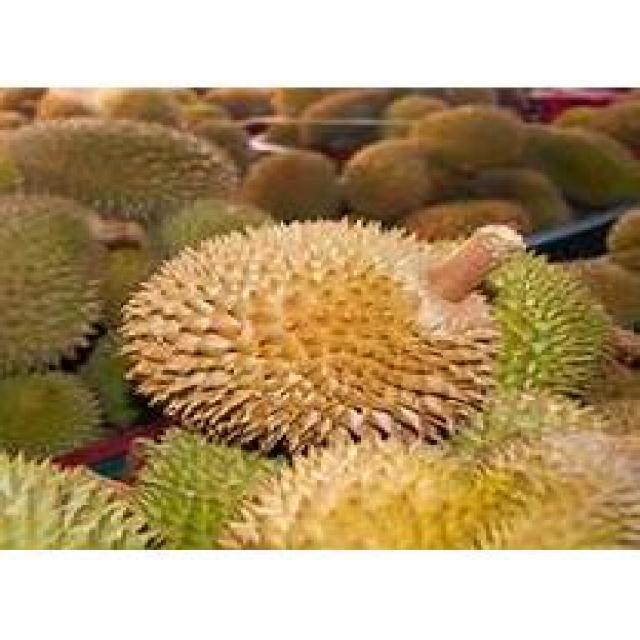fruit: (105, 180, 449, 490), (0, 170, 123, 398)
